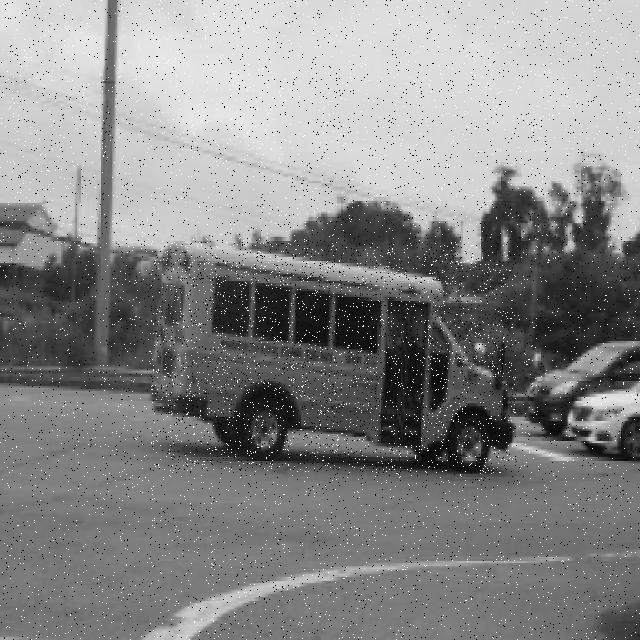Bus- Small: (150, 242, 516, 473)
